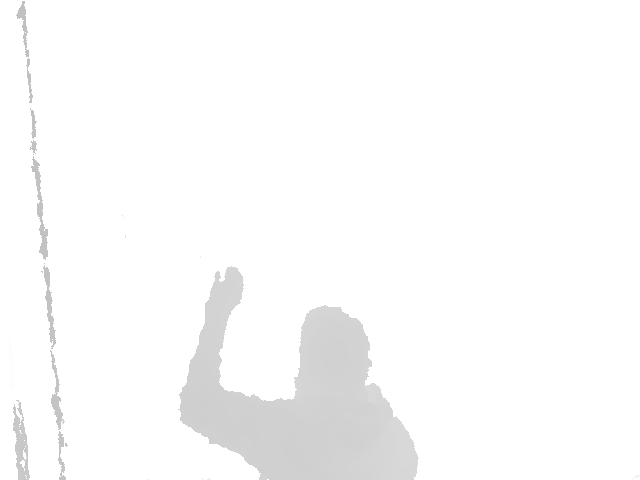hand: (204, 265, 244, 321)
head: (294, 306, 373, 399)
person: (179, 265, 420, 480)
